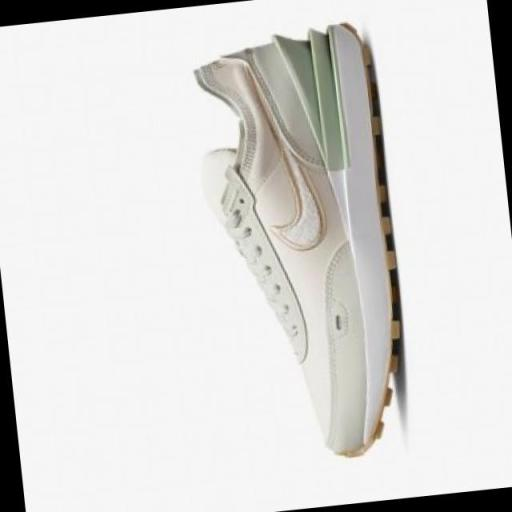Nike: (238, 40, 333, 263)
